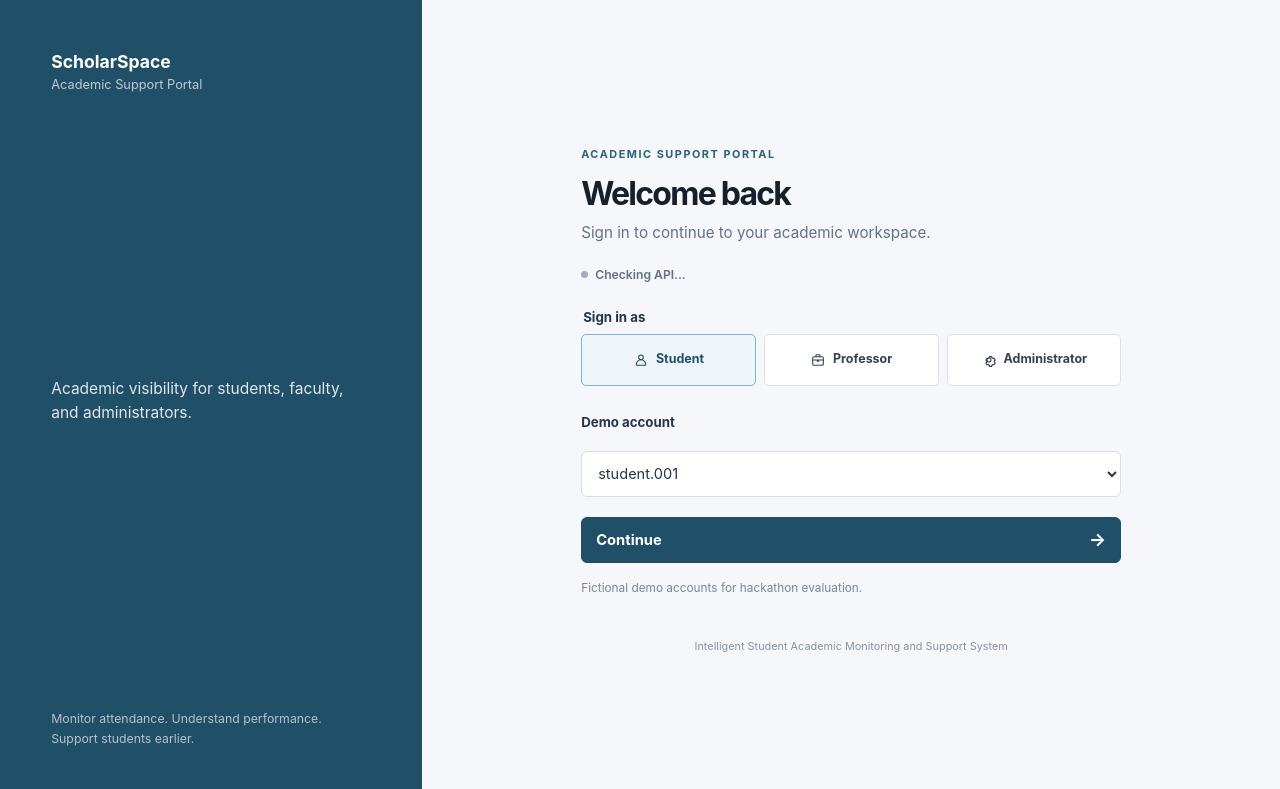
role-aware demo login › defaults to the student role and signs in as student.001
Expected: the dropdown labelled "Demo account" shows "student.001", [581, 451, 1121, 497]
Click the button "Continue →" at (629, 540), box [581, 517, 1121, 563]
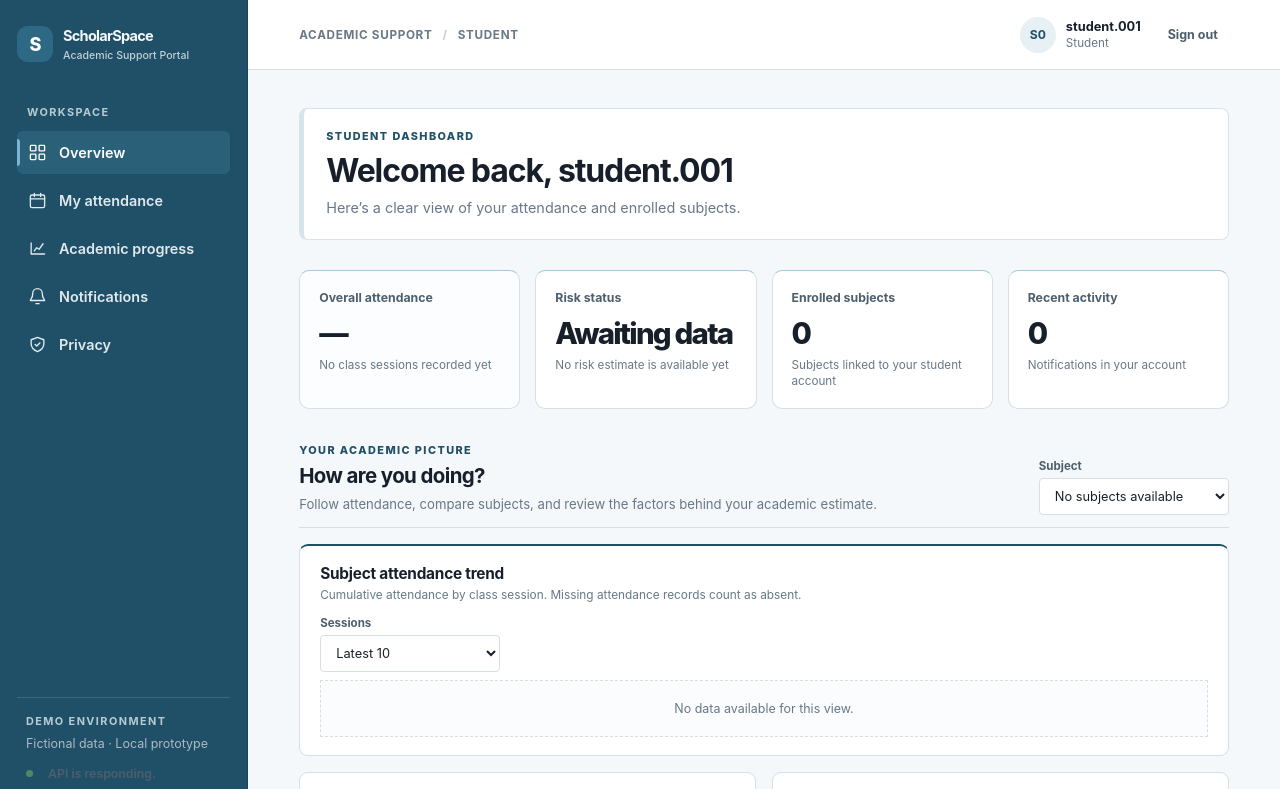
Result: the heading "Welcome back, student.001" is shown at [326, 151, 741, 190]
